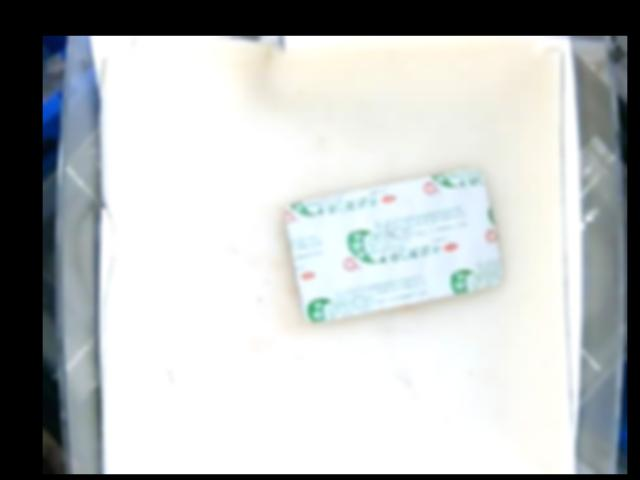Medicine: (285, 167, 501, 327)
